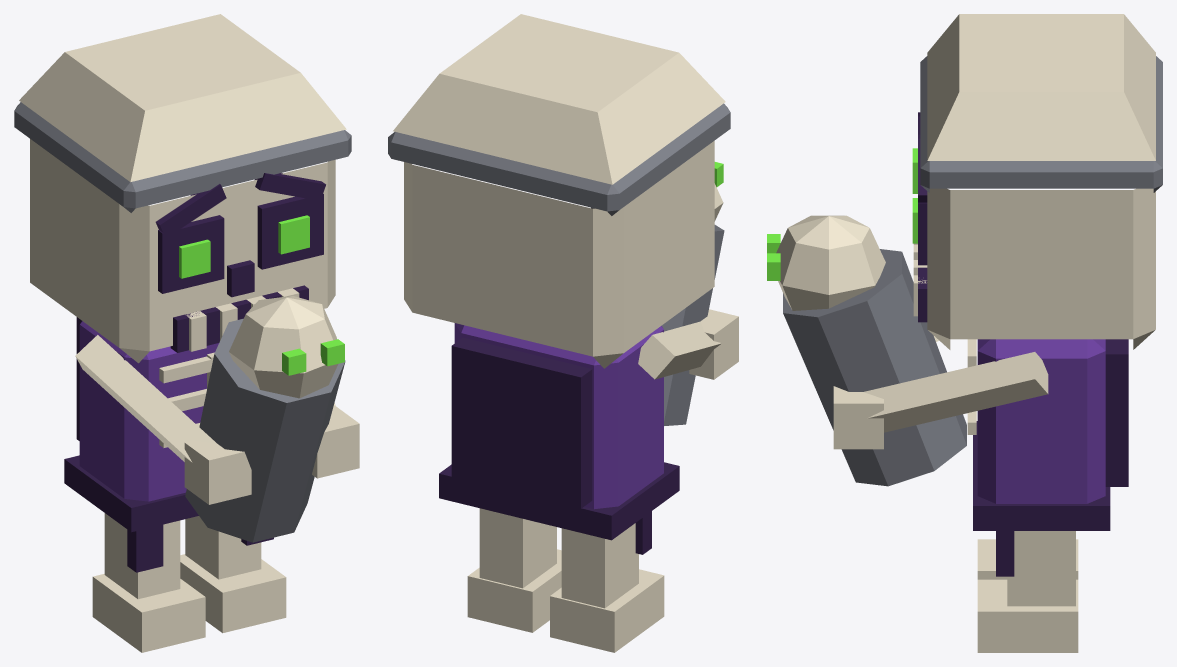
File: mortar_r4.glb
The picture shows the model from 3 angles, left to right: view 1: azimuth 30°, elevation 25°; view 2: azimuth 150°, elevation 25°; view 3: azimuth 270°, elevation 25°; orthographic projection. The views are drawn at different scales.
Visible parts, largest first — view 1: mortar_r4_mesh; view 2: mortar_r4_mesh; view 3: mortar_r4_mesh.
Boxes of the visible parts, x1=… form: mortar_r4_mesh: x1=14, y1=14, x2=359, y2=652; mortar_r4_mesh: x1=388, y1=14, x2=738, y2=652; mortar_r4_mesh: x1=767, y1=14, x2=1162, y2=652.
Size of the model in its own units: 0.7375 by 1.7 by 1.08.
Materials: 1 (1 with a texture image).
